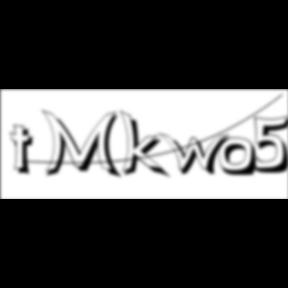M: (41, 108, 125, 181)
k: (119, 108, 172, 181)
o: (218, 137, 260, 179)
t: (9, 124, 40, 179)
w: (159, 132, 237, 178)
